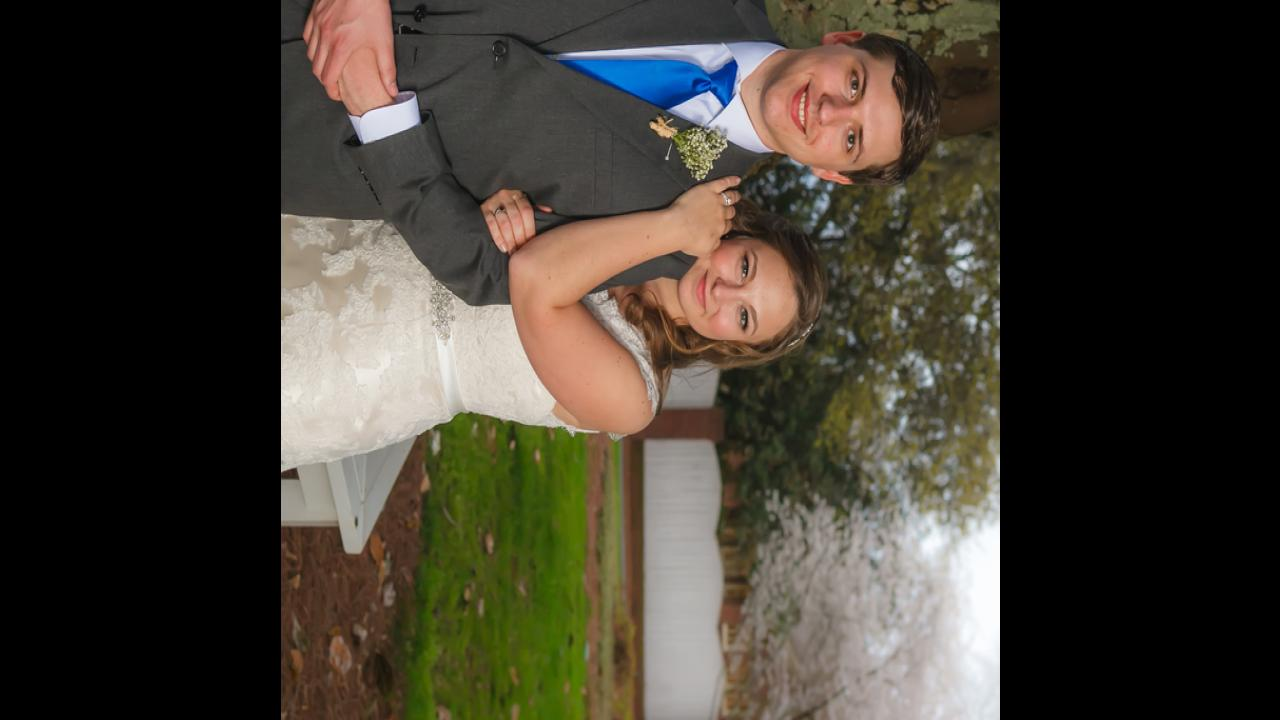ring: (493, 207, 506, 217)
